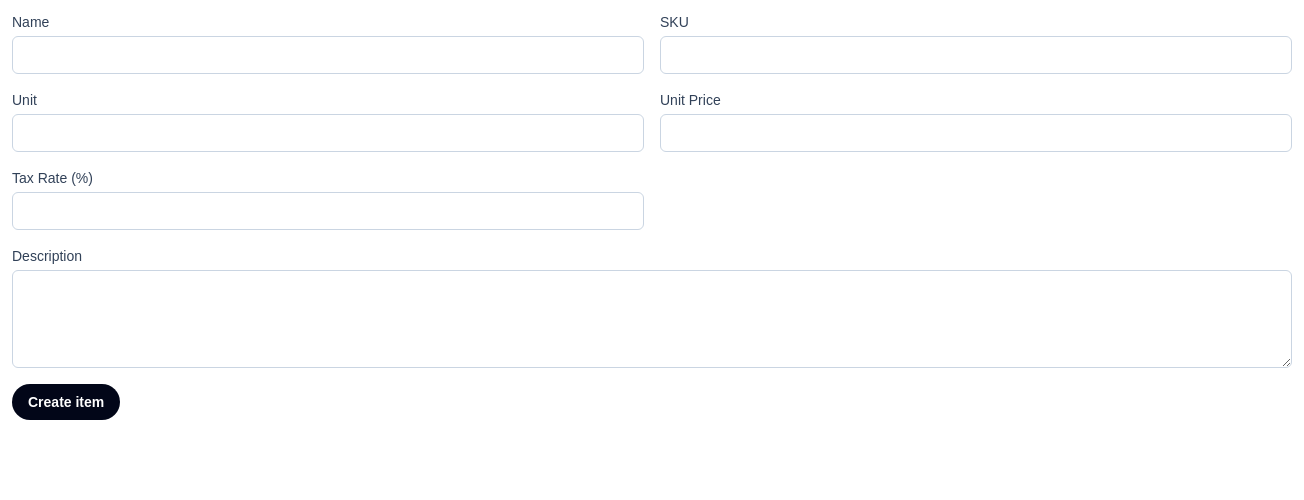
Test: ItemForm › rejects submission when the name is blank
What coordinates should you click on to do the following:
click the button "Create item"
I would click on:
 (66, 402)
Its box is [12,384,120,420].
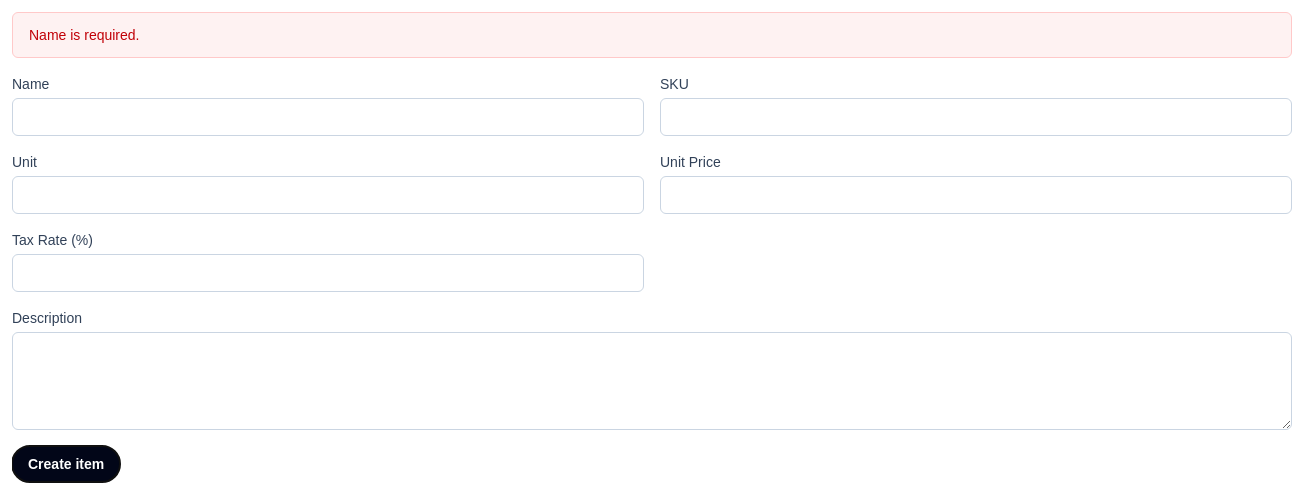
Result: the message reads "Name is required." at [29,27,140,43]
